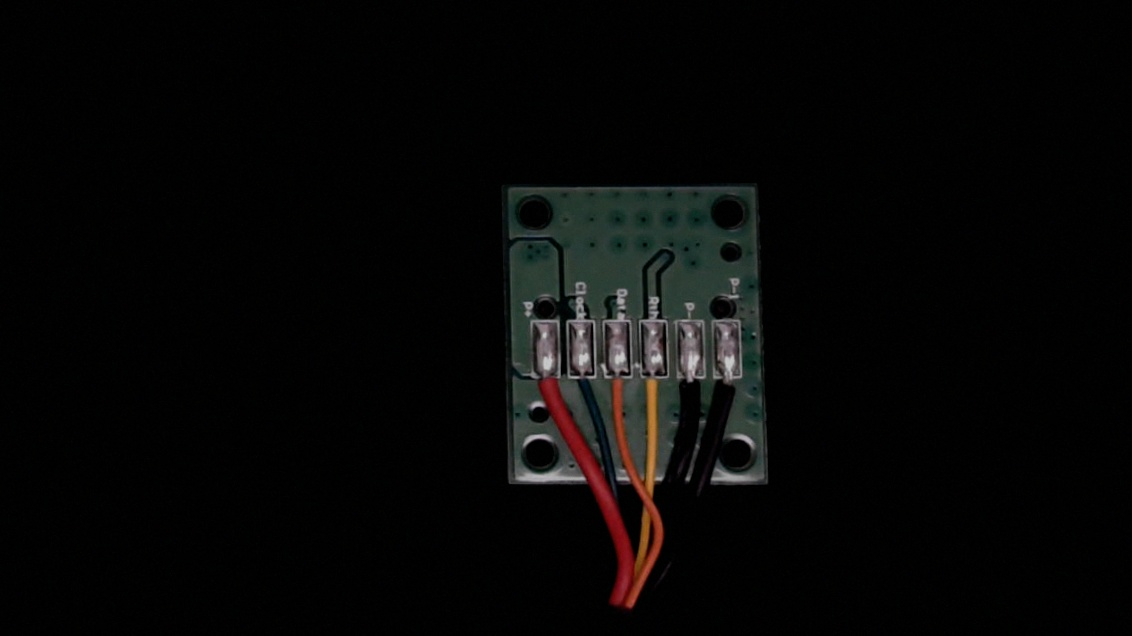Black: (678, 364, 706, 424)
Black1: (713, 364, 746, 425)
Green: (567, 362, 600, 412)
Orange: (604, 363, 635, 422)
Red: (532, 361, 562, 424)
Yellow: (639, 363, 673, 431)
